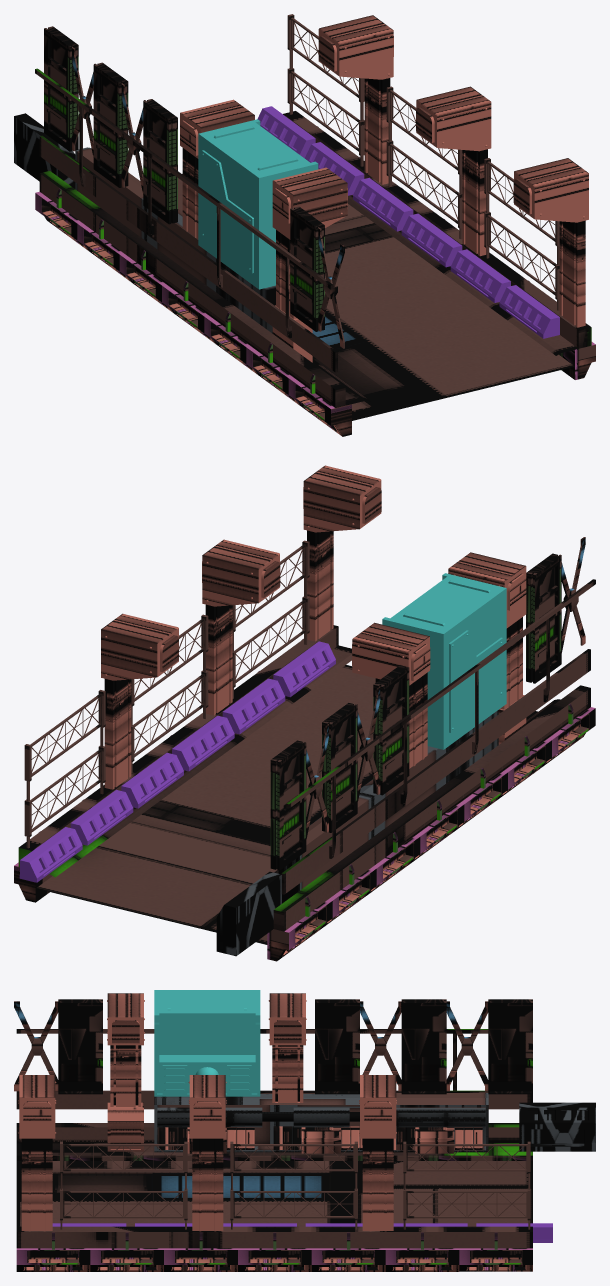
File: wallSegmentsA.FBX
The picture shows the model from 3 angles, top to bottom: view 1: azimuth 30°, elevation 25°; view 2: azimuth 150°, elevation 25°; view 3: azimuth 270°, elevation 25°; orthographic projection. The views are drawn at different scales.
Parts seen in each view (by area): view 1: wallSegmentsA; view 2: wallSegmentsA; view 3: wallSegmentsA.
Boxes of the visible parts, left/top/right/bottom form: wallSegmentsA: left=14, top=14, right=595, bottom=436; wallSegmentsA: left=14, top=465, right=595, bottom=961; wallSegmentsA: left=14, top=990, right=595, bottom=1271.
Bounding box in the file's own units: 51.78 × 38.07 × 113.
